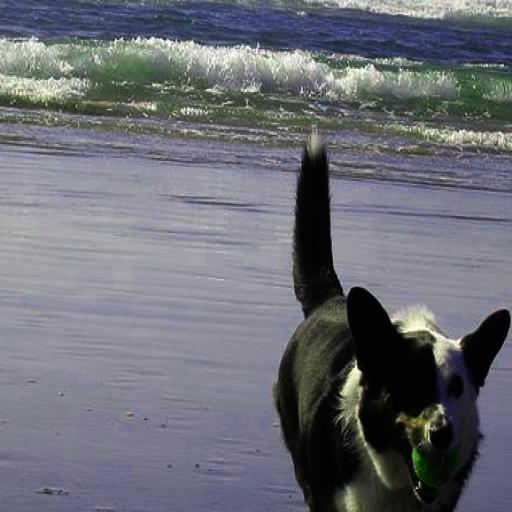dog_face: (341, 285, 512, 485)
